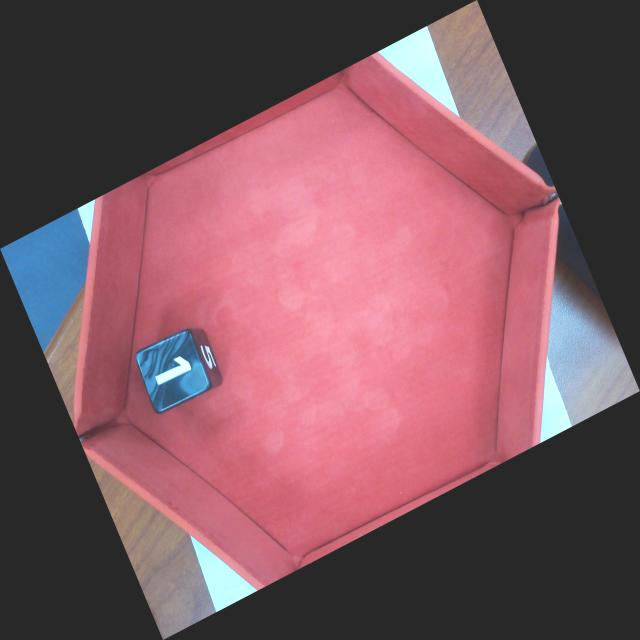dice: (131, 326, 216, 418)
